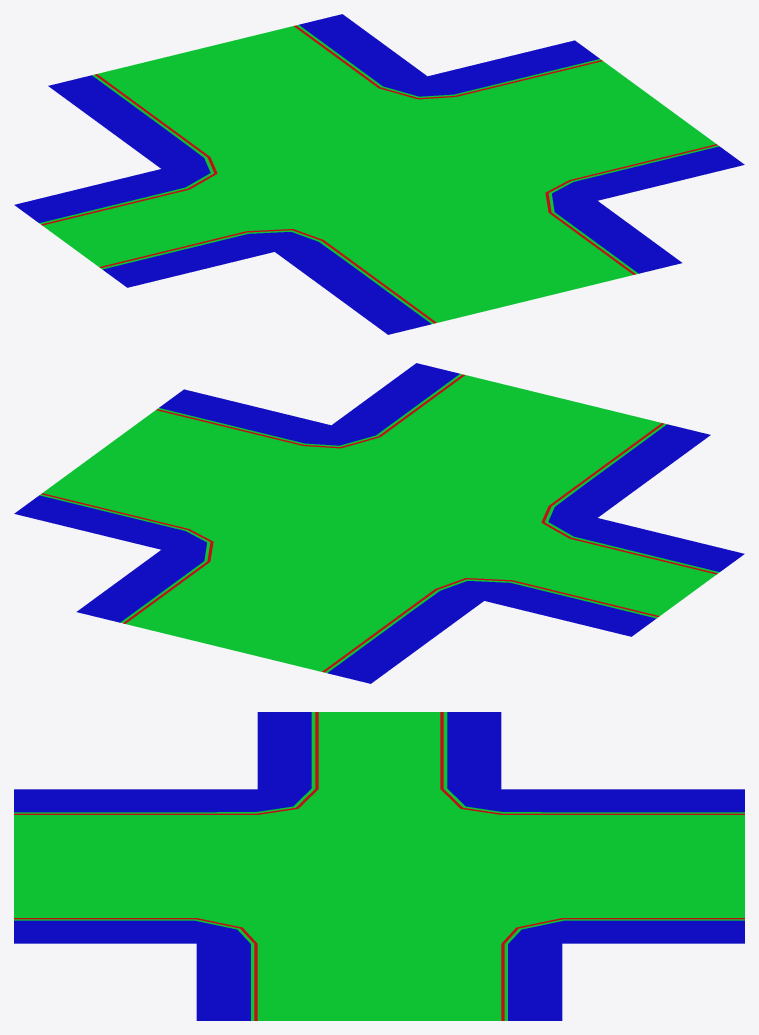
File: wide_4way_1_thin.fbx
3 renders of one model, top to bottom at view 1: azimuth 30°, elevation 25°; view 2: azimuth 150°, elevation 25°; view 3: azimuth 270°, elevation 25°, orthographic. The views are drawn at different scales.
Visible parts, largest first — view 1: Plane.070; view 2: Plane.070; view 3: Plane.070.
Part boxes in pixels (x1,y1,x2,y2): Plane.070: (14, 14, 744, 334); Plane.070: (14, 363, 744, 683); Plane.070: (14, 712, 744, 1020).
Bounding box in the file's own units: 1200 × 0.000196 × 1200.
